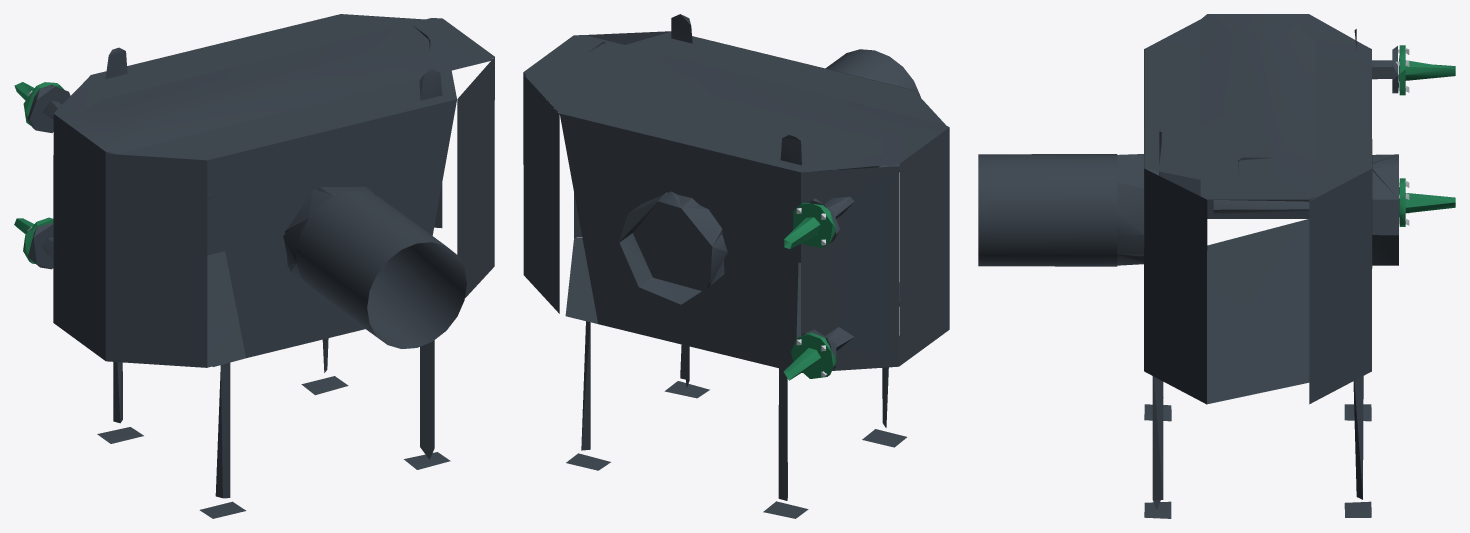
File: economizer.glb
3 views of the same model, side by side, from view 1: azimuth 30°, elevation 25°; view 2: azimuth 150°, elevation 25°; view 3: azimuth 270°, elevation 25° (orthographic). The views are drawn at different scales.
Visible parts, largest first — view 1: economizer, flue_spacer, eco_inlet_adapter; view 2: economizer, eco_inlet_adapter, flue_spacer; view 3: economizer, flue_spacer, eco_inlet_adapter.
Part boxes in pixels (bbox=[...]): economizer: bbox=[27, 14, 494, 518]; flue_spacer: bbox=[296, 190, 466, 348]; eco_inlet_adapter: bbox=[14, 82, 64, 263]; economizer: bbox=[523, 14, 949, 518]; eco_inlet_adapter: bbox=[783, 202, 836, 380]; flue_spacer: bbox=[825, 49, 920, 97]; economizer: bbox=[1117, 14, 1398, 518]; flue_spacer: bbox=[978, 154, 1117, 266]; eco_inlet_adapter: bbox=[1395, 45, 1455, 226].
Bounding box in the file's own units: 1.58 × 1.51 × 1.72.
